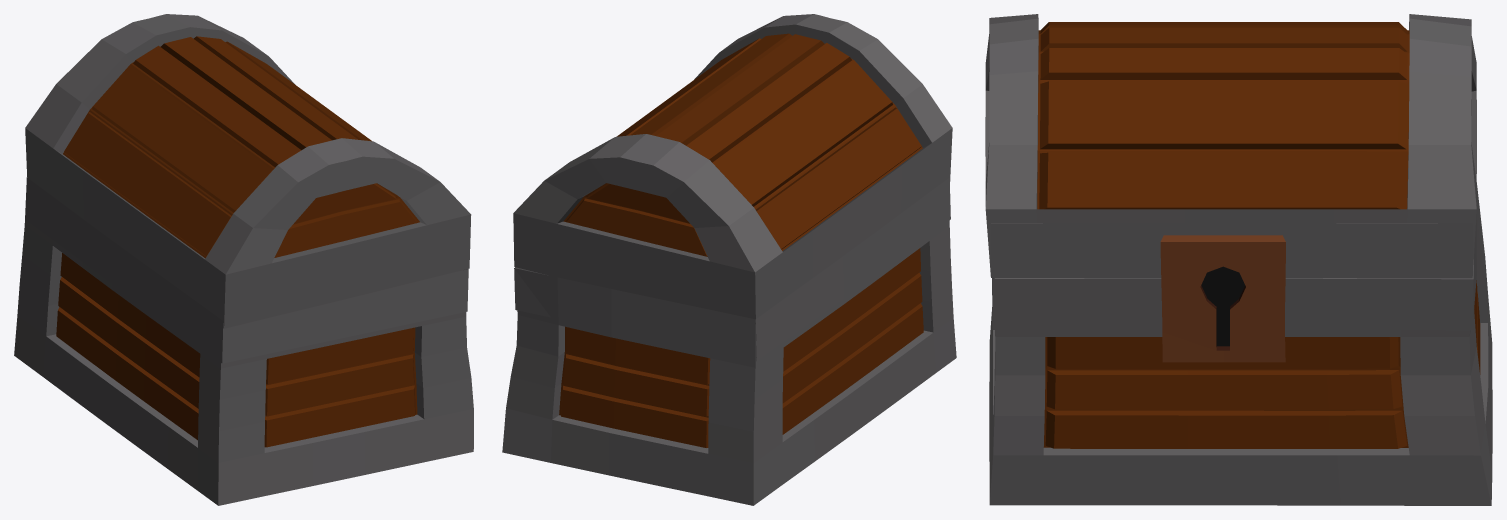
The model's file is sandk.fbx.
The picture shows the model from 3 angles, left to right: view 1: azimuth 30°, elevation 25°; view 2: azimuth 150°, elevation 25°; view 3: azimuth 270°, elevation 25°; orthographic projection. The views are drawn at different scales.
Visible parts, largest first — view 1: Cube.002, Cube; view 2: Cube.002, Cube; view 3: Cube.002, Cube.
Part boxes in pixels (x1,y1,x2,y2): Cube.002: (25,14,471,328); Cube: (14,177,473,505); Cube.002: (513,14,952,319); Cube: (502,178,956,505); Cube.002: (985,14,1476,278); Cube: (989,182,1492,505).
Bounding box in the file's own units: 149 × 178 × 205.
